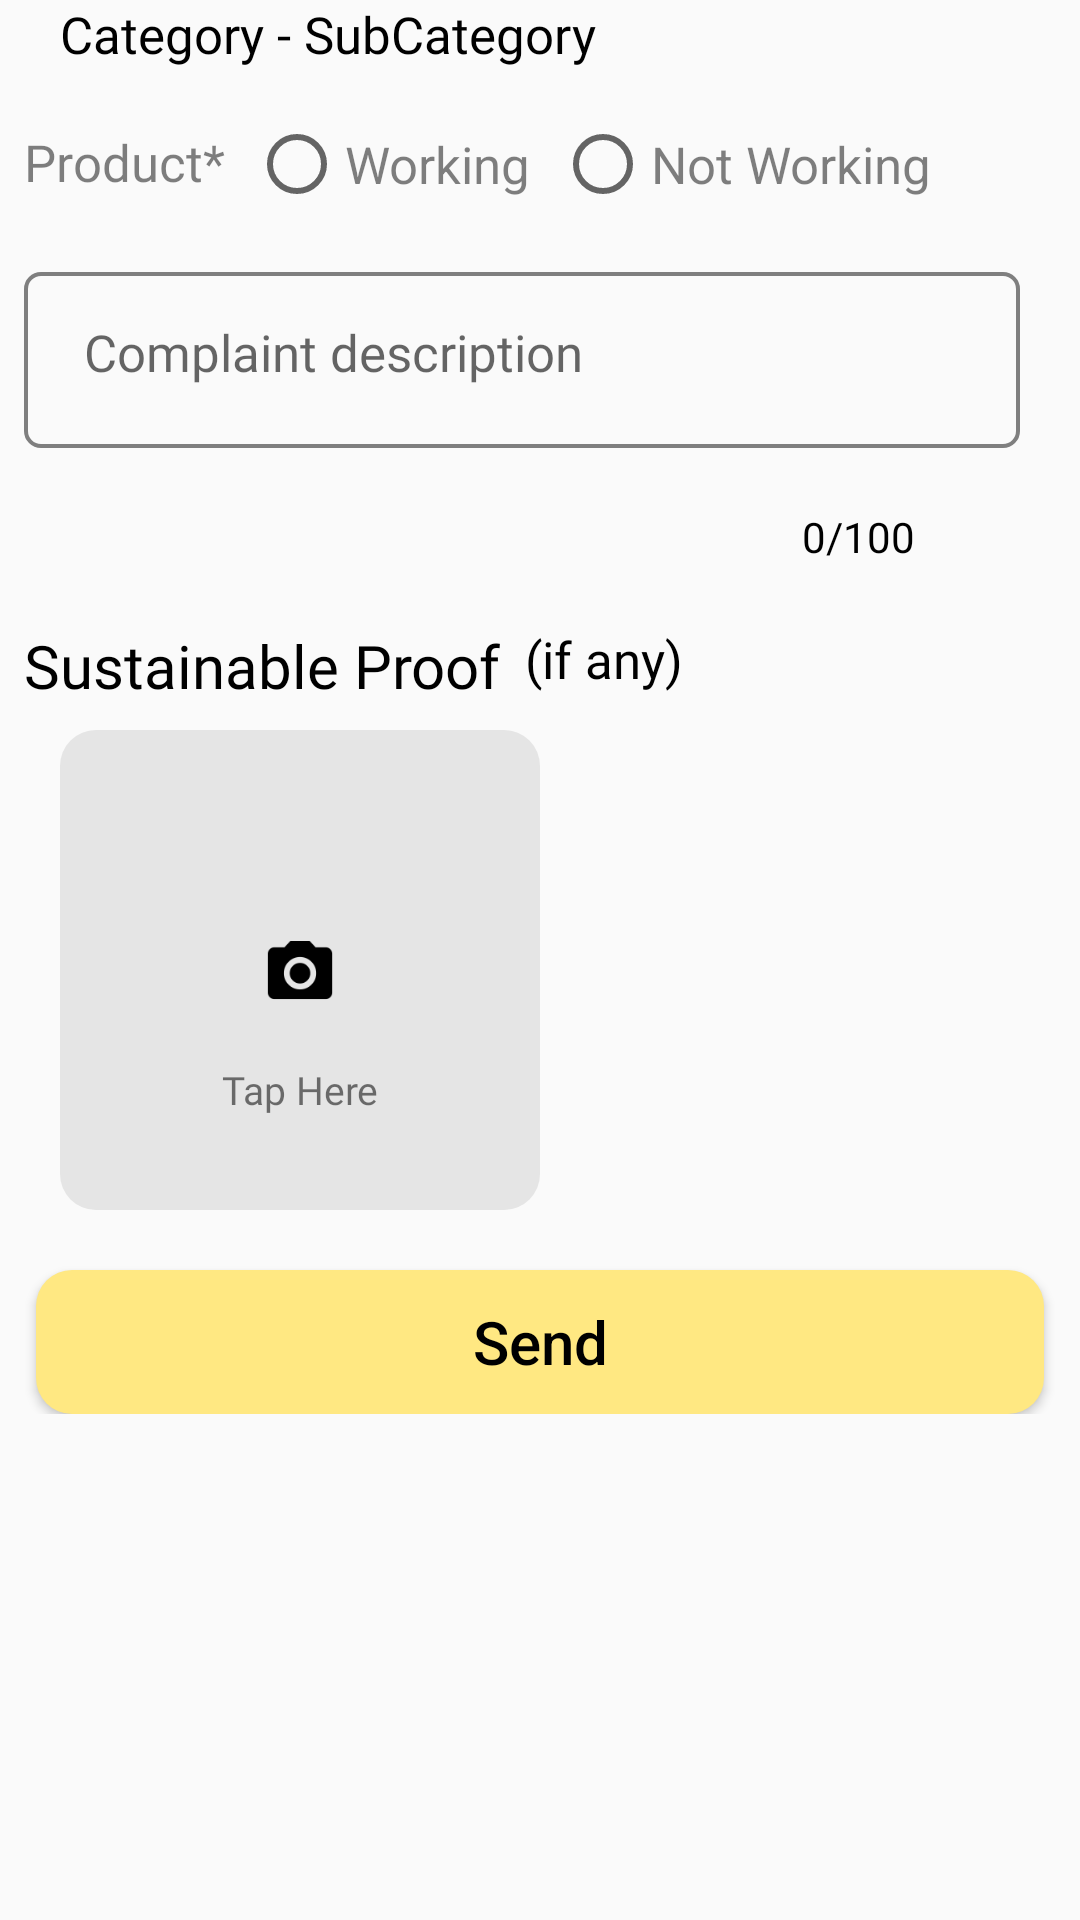

Screen size 1080w x 1920h. Icon name, then its center in pixels as point (x, y):
camera: point (300, 970)
